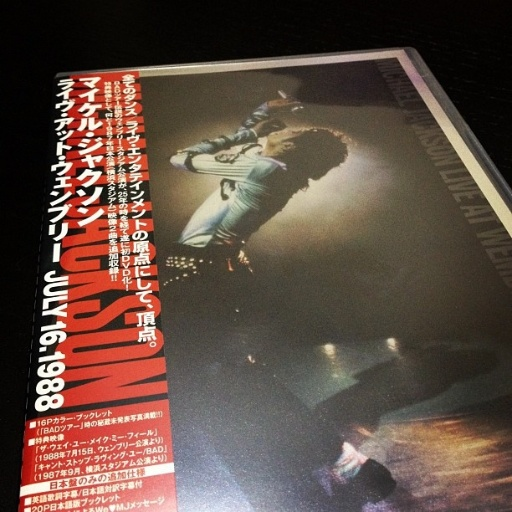hand: (270, 92, 302, 114), (253, 117, 286, 138)
